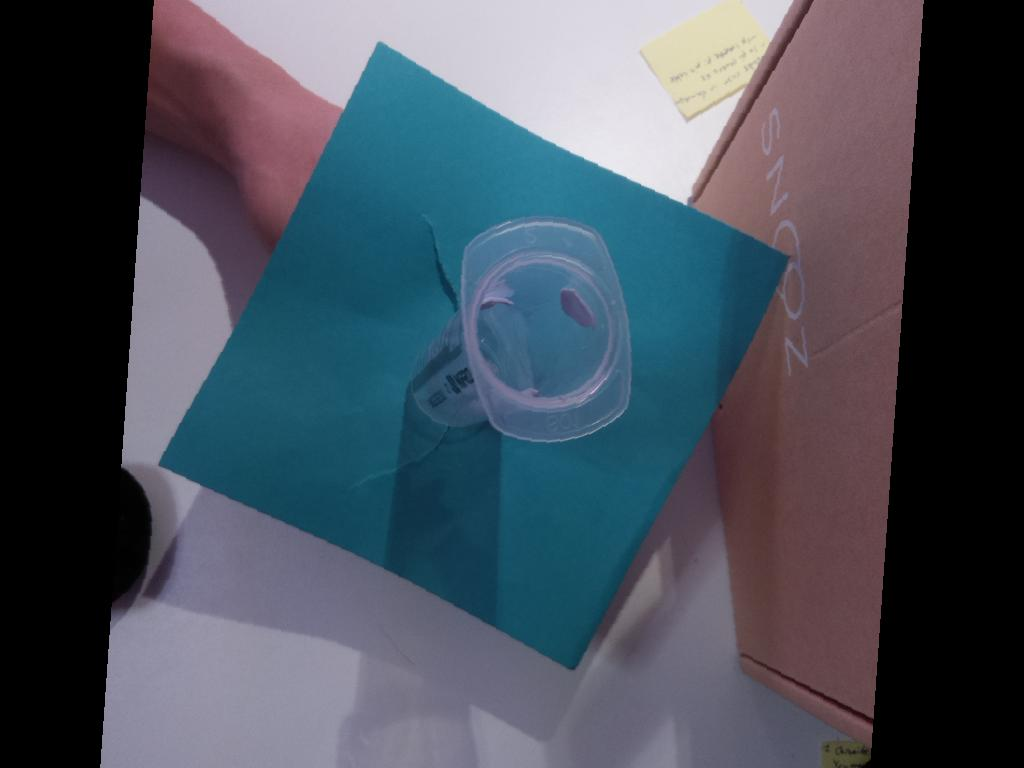dirty: (461, 214, 632, 440)
